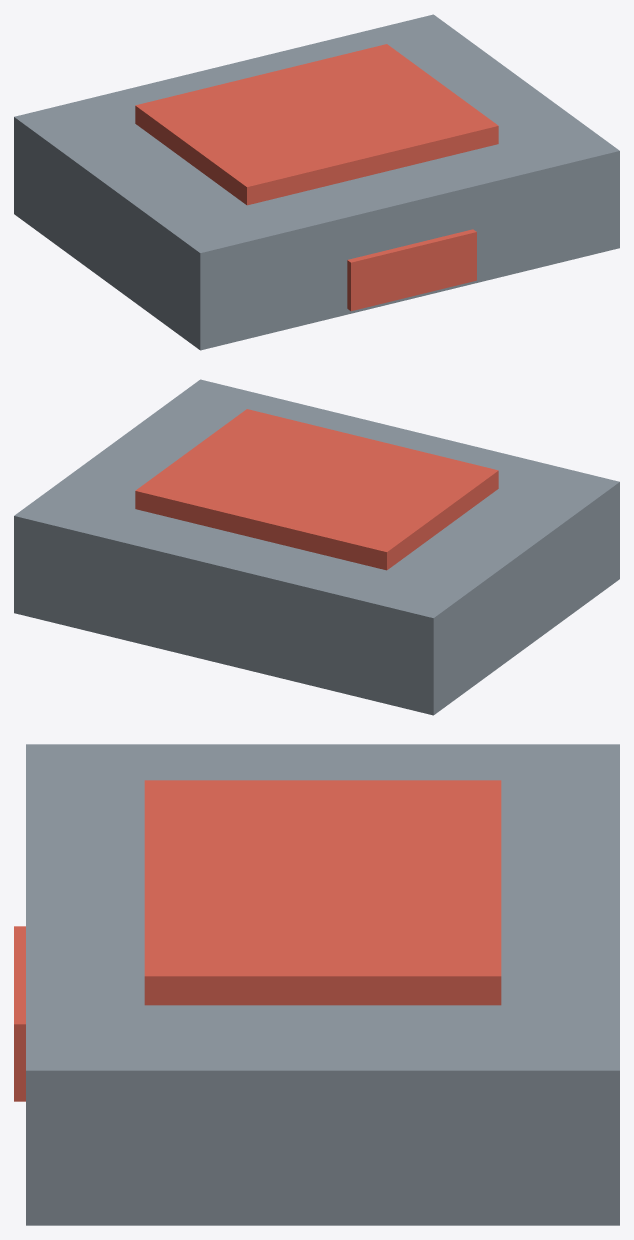
The model's file is SU_KrechetInterceptor_LOD0.glb.
The picture shows the model from 3 angles, top to bottom: view 1: azimuth 30°, elevation 25°; view 2: azimuth 150°, elevation 25°; view 3: azimuth 270°, elevation 25°; orthographic projection. The views are drawn at different scales.
Visible parts, largest first — view 1: EntranceGate; view 2: EntranceGate; view 3: EntranceGate.
Boxes of the visible parts, <box> form: EntranceGate: <box>14,14,619,350</box>; EntranceGate: <box>14,379,619,715</box>; EntranceGate: <box>14,744,619,1225</box>.
Bounding box in the file's own units: 650 × 171 × 510.
